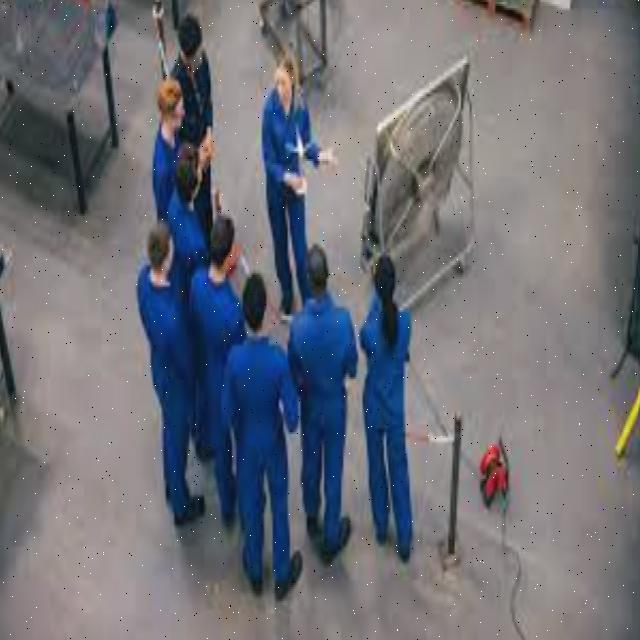humans: (229, 272, 301, 600), (294, 246, 355, 554), (138, 225, 198, 525), (361, 256, 412, 562), (262, 44, 309, 314), (202, 213, 241, 532), (178, 15, 216, 204), (153, 79, 183, 213), (172, 147, 203, 271)
